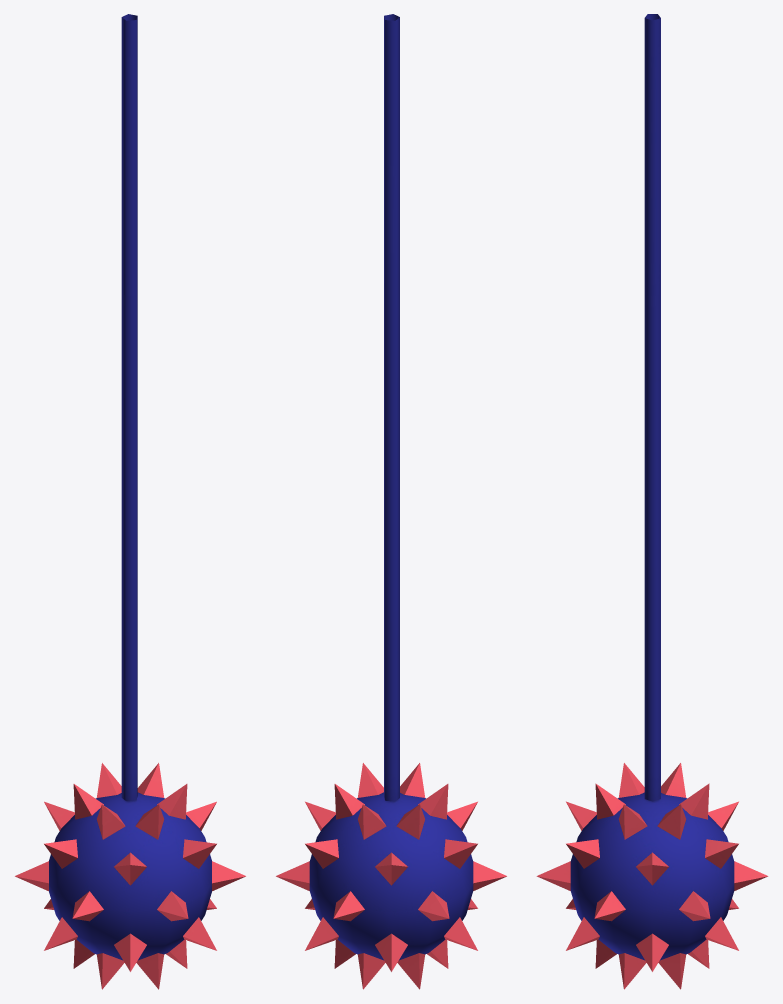
Rendered from Hammer_1.FBX.
3 renders of one model, left to right at view 1: azimuth 30°, elevation 25°; view 2: azimuth 150°, elevation 25°; view 3: azimuth 270°, elevation 25°, orthographic.
Visible parts, largest first — view 1: Hammer_1; view 2: Hammer_1; view 3: Hammer_1.
Boxes of the visible parts, bbox=[...] form: Hammer_1: bbox=[15, 14, 245, 989]; Hammer_1: bbox=[276, 14, 506, 989]; Hammer_1: bbox=[536, 14, 768, 989].
Size of the model in its own units: 1.67 by 8.74 by 1.93.
